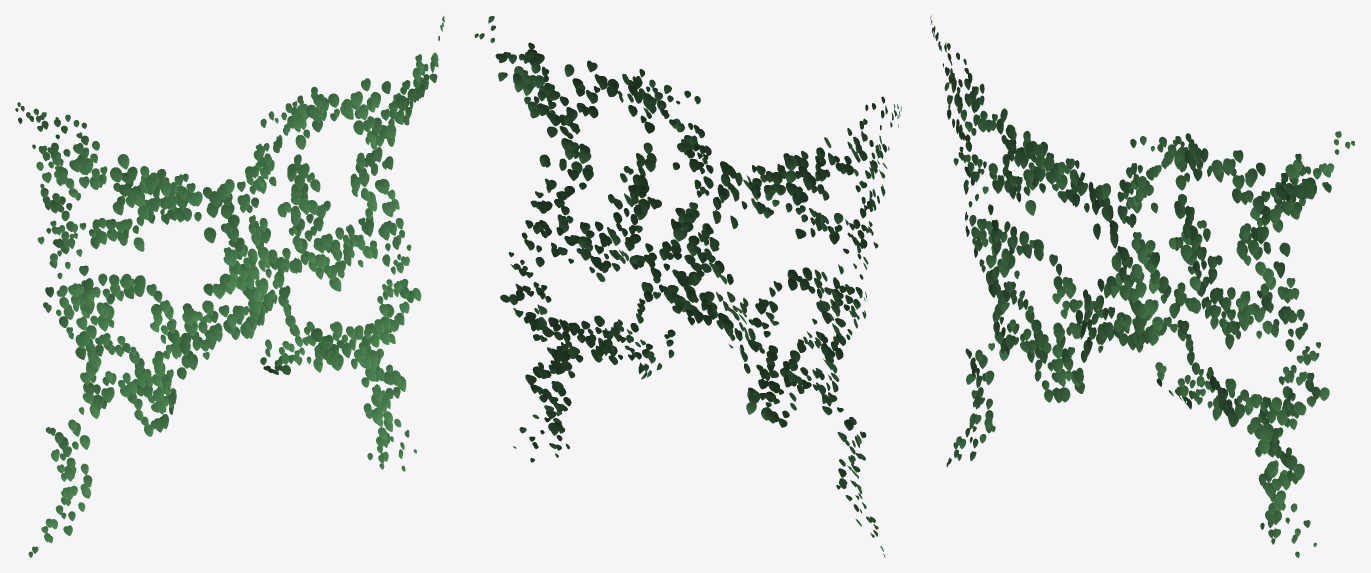
Rendered from ivy_entrace_lod.fbx.
3 views of the same model, side by side, from view 1: azimuth 30°, elevation 25°; view 2: azimuth 150°, elevation 25°; view 3: azimuth 330°, elevation 25° (orthographic). The views are drawn at different scales.
Visible parts, largest first — view 1: ivyLeaf_entrance_LOD0; view 2: ivyLeaf_entrance_LOD0; view 3: ivyLeaf_entrance_LOD0.
Boxes of the visible parts, box(x1,y1,x2,y2) form: ivyLeaf_entrance_LOD0: box(15, 16, 444, 557); ivyLeaf_entrance_LOD0: box(474, 16, 901, 557); ivyLeaf_entrance_LOD0: box(930, 15, 1354, 557).
Size of what is drawn, in the model's own units: 1568 by 1605 by 161.
